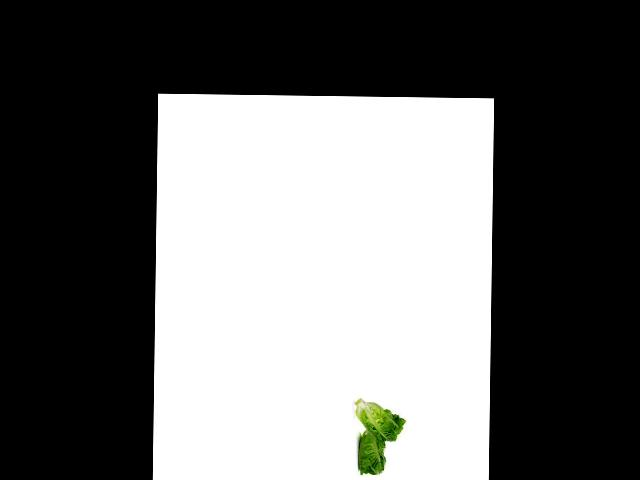lettuce: (350, 397, 404, 447)
